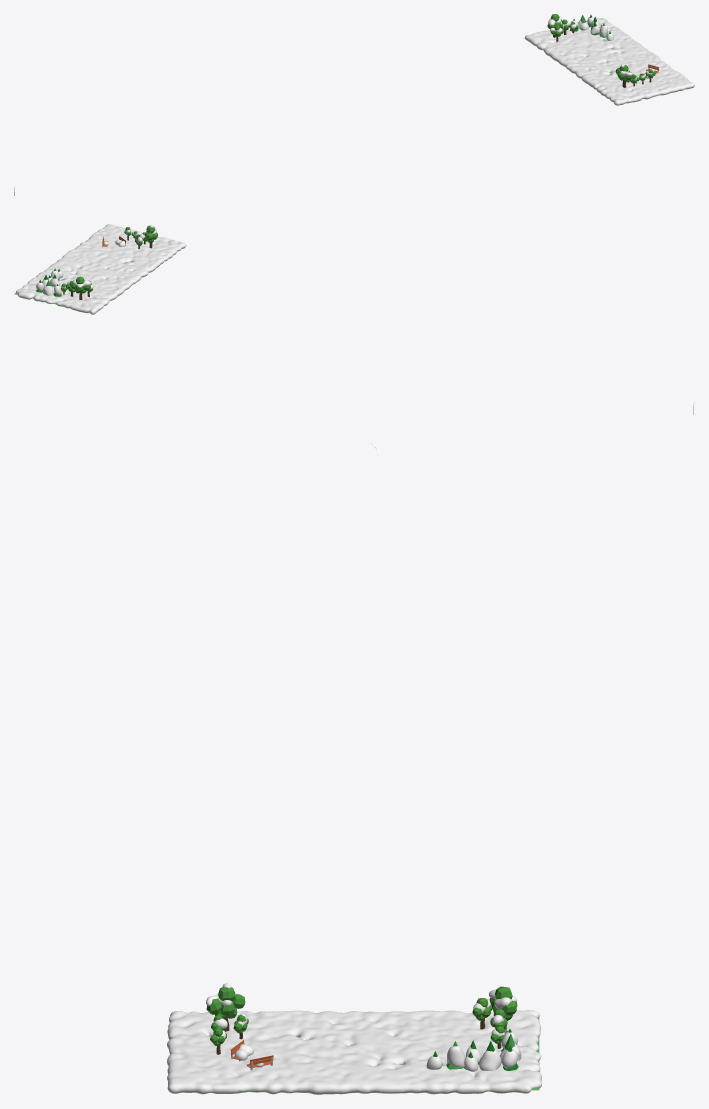
The model's file is бэк2 (2).fbx.
3 views of the same model, one above another, from view 1: azimuth 30°, elevation 25°; view 2: azimuth 150°, elevation 25°; view 3: azimuth 270°, elevation 25° (orthographic). The views are drawn at different scales.
Visible parts, largest first — view 1: SnowBall.001; view 2: SnowBall.001; view 3: SnowBall.001.
Boxes of the visible parts, x1,y1,x2,y2 form: SnowBall.001: [524, 17, 694, 105]; SnowBall.001: [16, 224, 186, 314]; SnowBall.001: [167, 1010, 541, 1094].
Bounding box in the file's own units: 2267 × 95.38 × 584.
